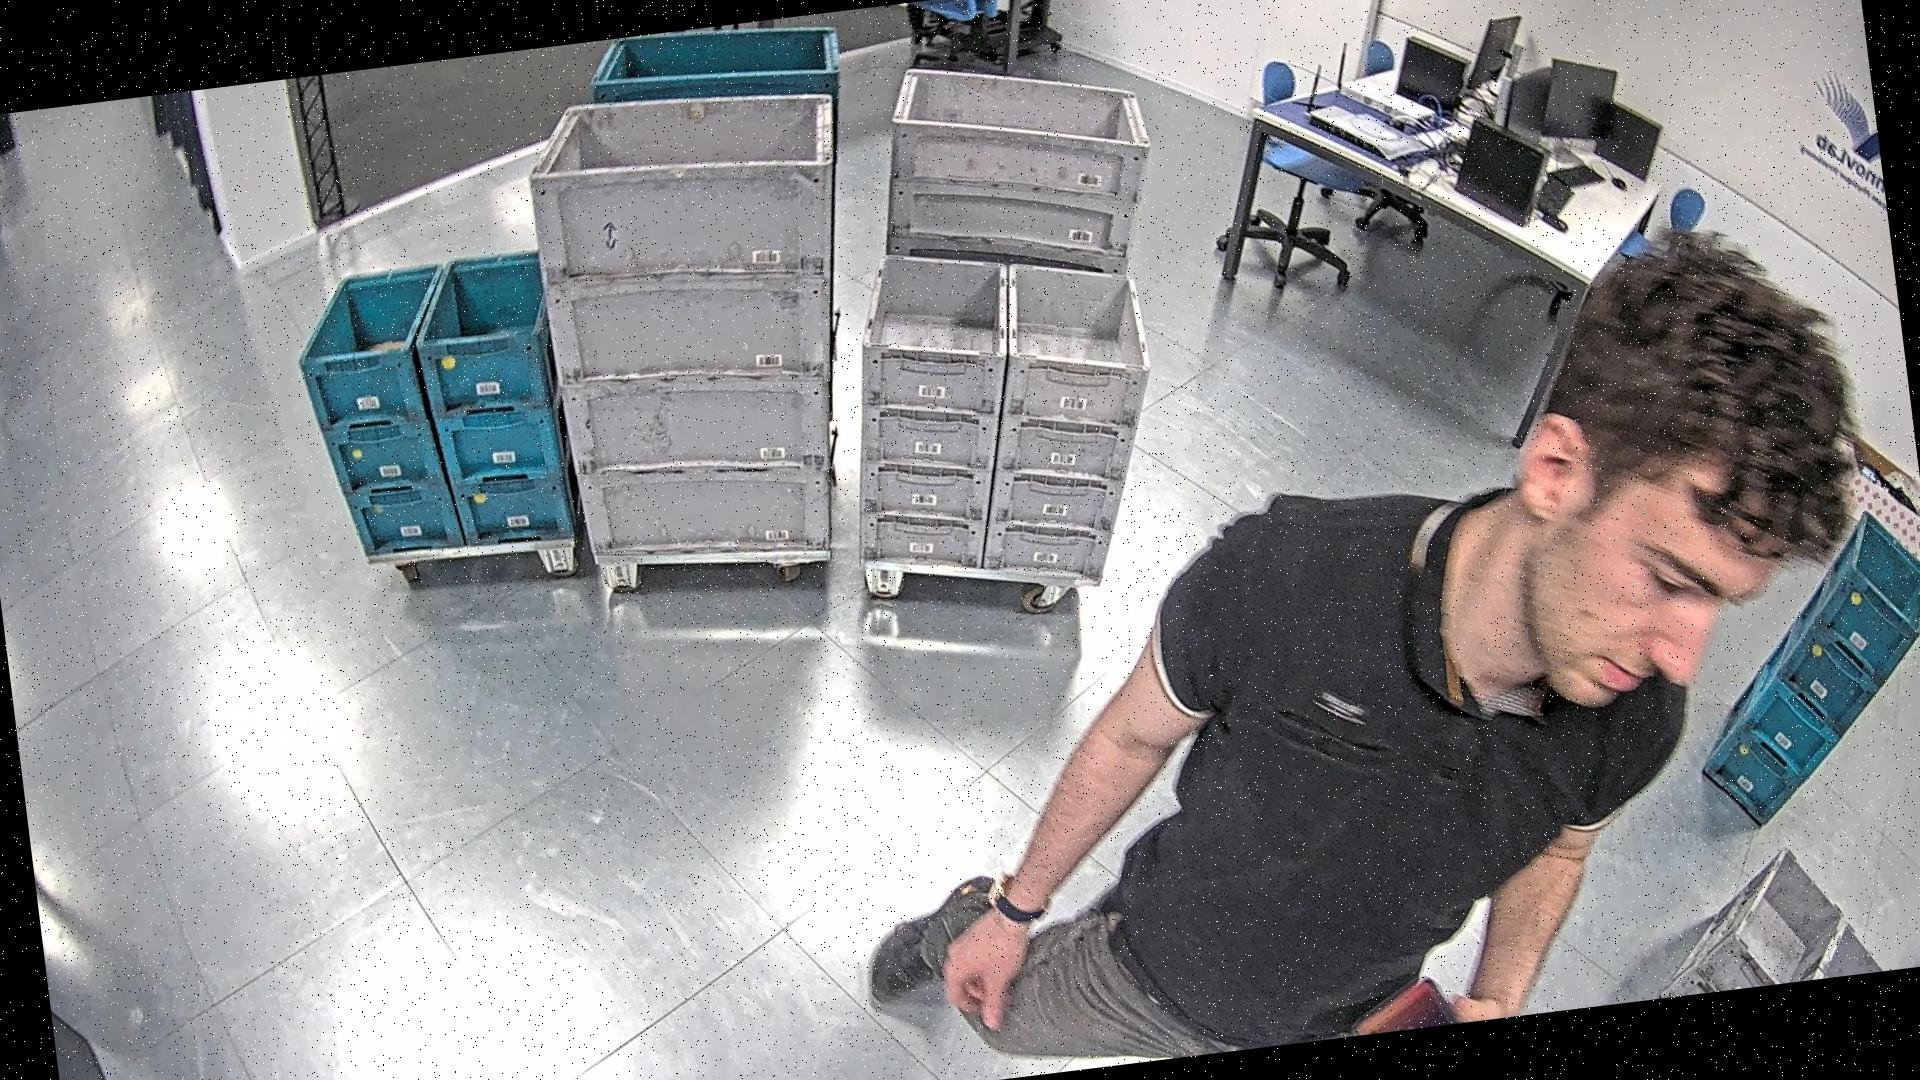Box3G: (848, 36, 1196, 517)
Box4G: (514, 66, 890, 587)
Box8G: (816, 219, 1182, 615)
BoxB4: (547, 11, 902, 520)
BoxB8: (284, 244, 597, 575)
